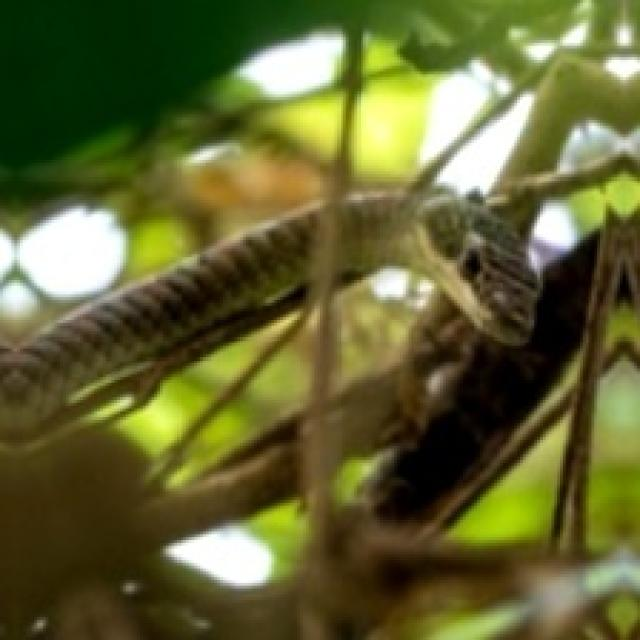paradise tree snake: (371, 223, 637, 523), (0, 206, 320, 440), (340, 191, 537, 340)
